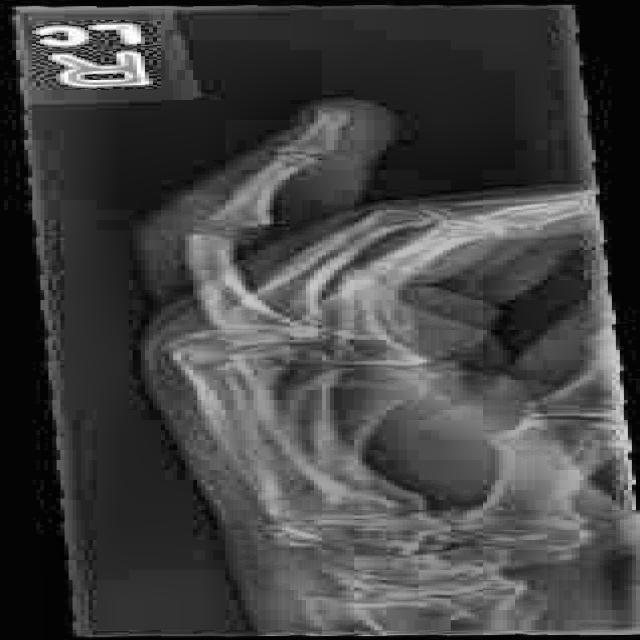fingers positive: (152, 204, 306, 250)
